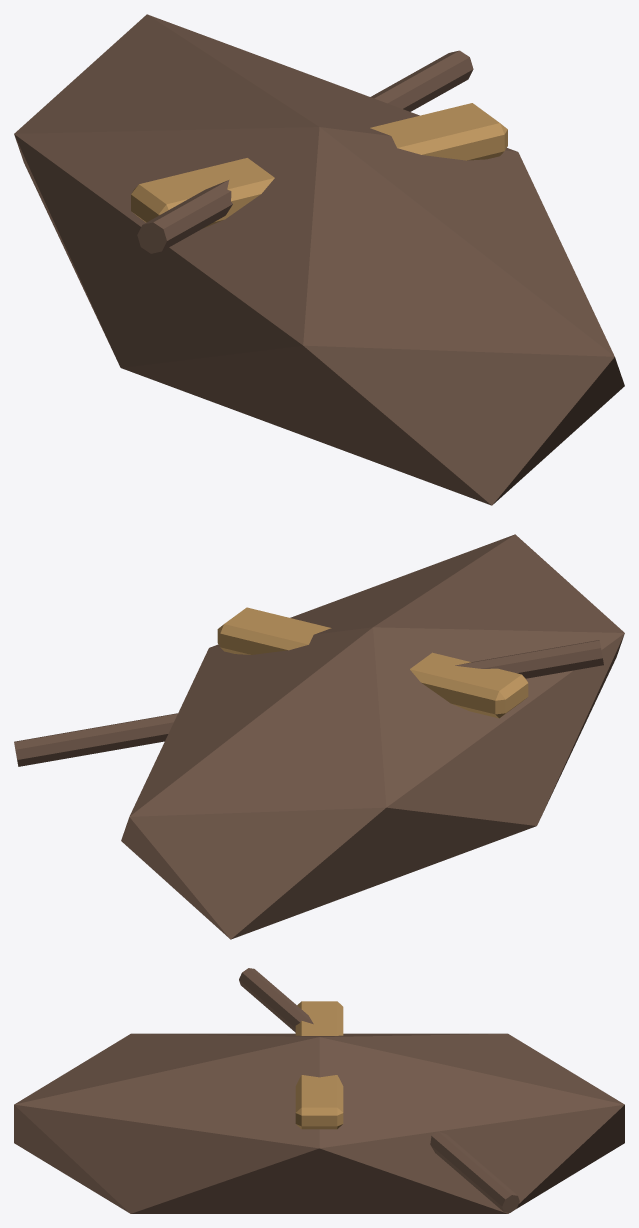
The model's file is SH10_L07_Boat.fbx.
The picture shows the model from 3 angles, top to bottom: view 1: azimuth 30°, elevation 25°; view 2: azimuth 150°, elevation 25°; view 3: azimuth 270°, elevation 25°; orthographic projection. The views are drawn at different scales.
Parts seen in each view (by area): view 1: SH10_L07_Boat; view 2: SH10_L07_Boat; view 3: SH10_L07_Boat.
Part boxes in pixels (left/top/right/bottom): SH10_L07_Boat: left=14, top=14, right=624, bottom=505; SH10_L07_Boat: left=14, top=534, right=624, bottom=939; SH10_L07_Boat: left=14, top=968, right=624, bottom=1213.
Bounding box in the file's own units: 165 × 80 × 255.
